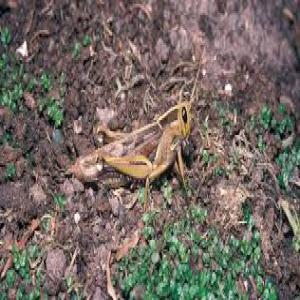locust: (72, 80, 200, 204)
